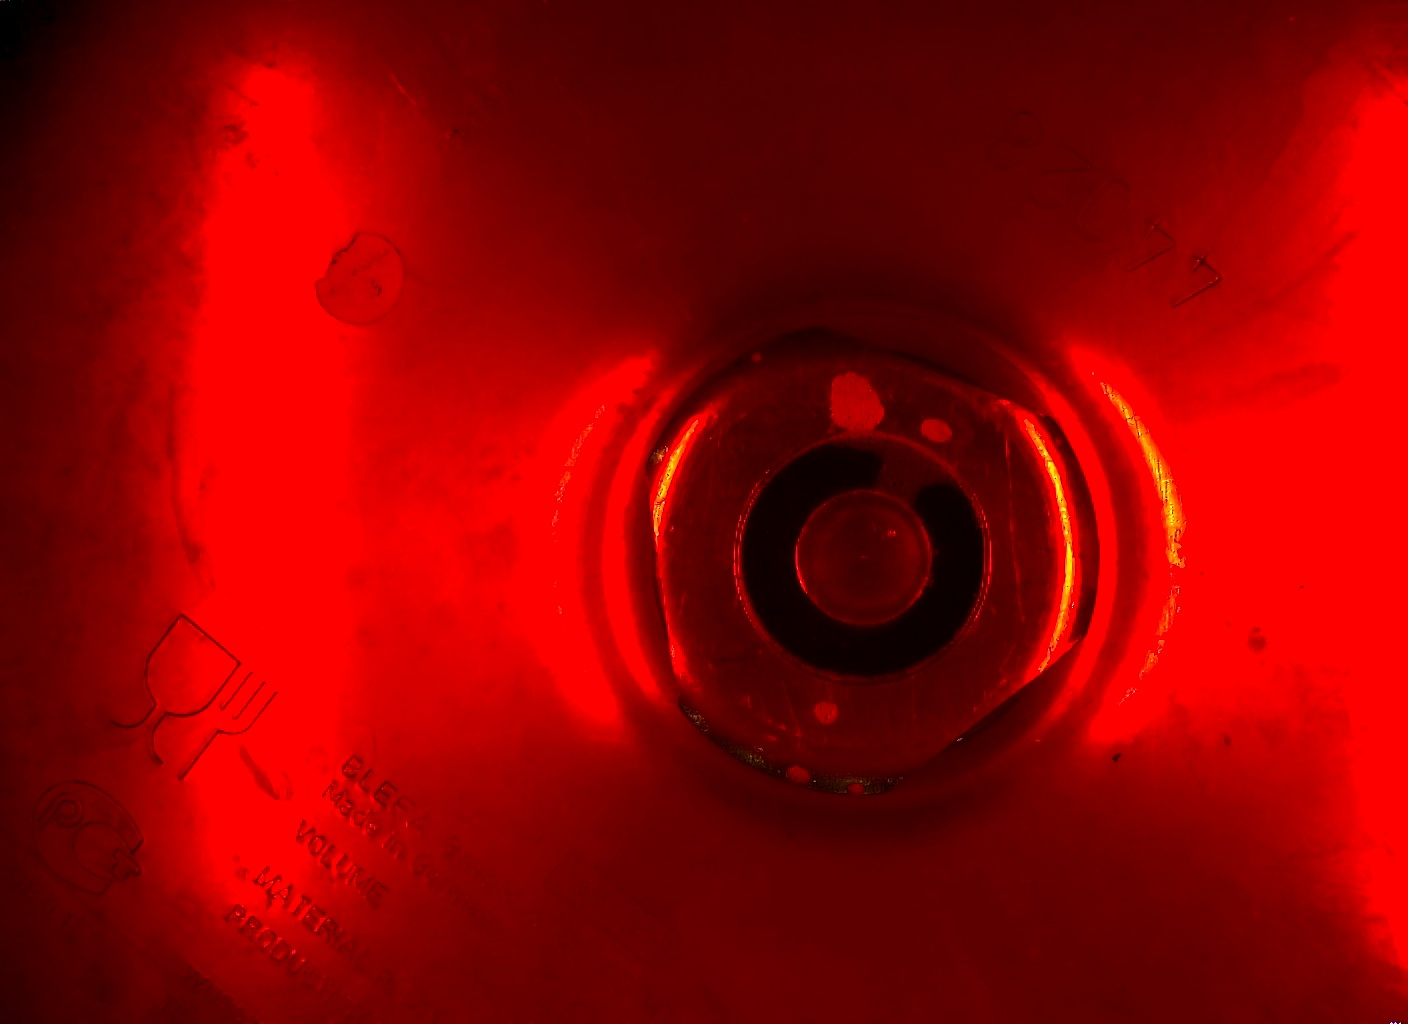pena: (816, 369, 971, 520), (802, 693, 878, 742)
